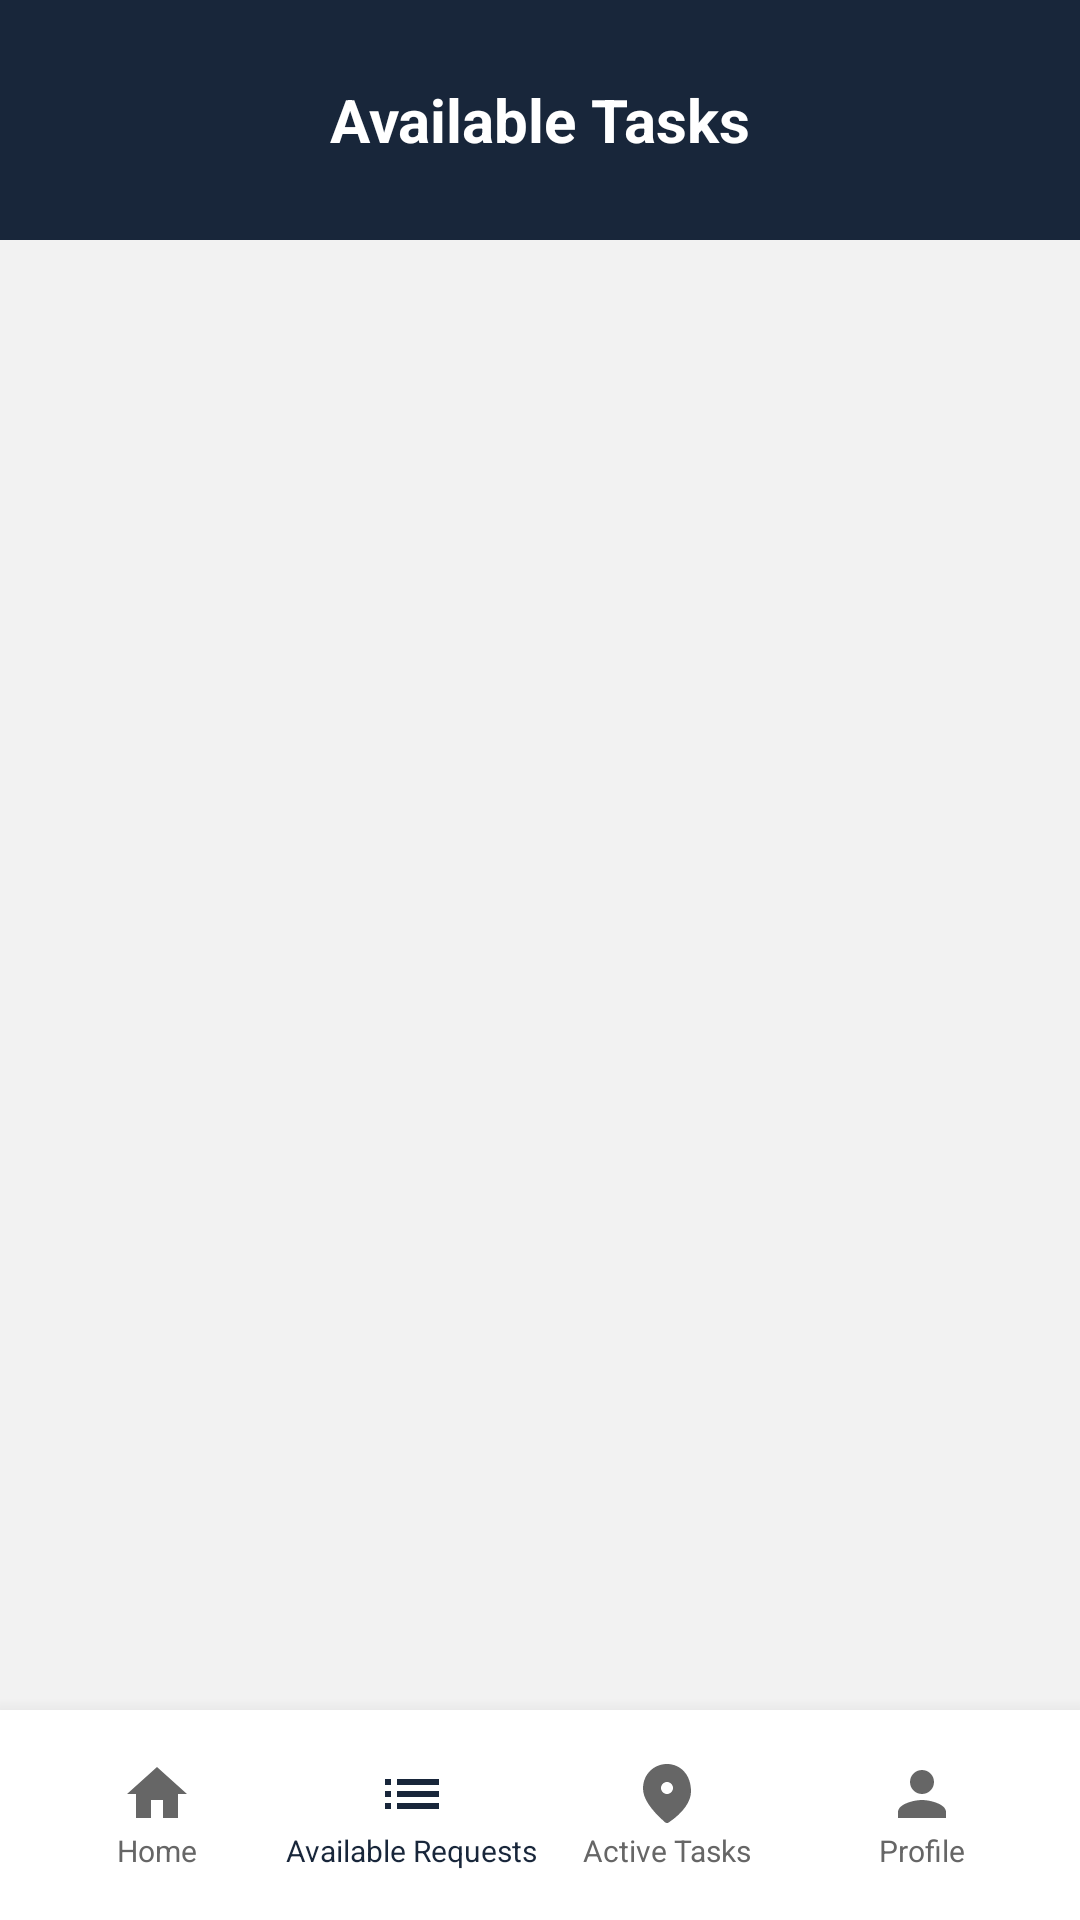

Where icons sit on this 1080 × 1920 app screen, as (x1, y1, x2, y2):
location: (643, 1764, 691, 1823)
